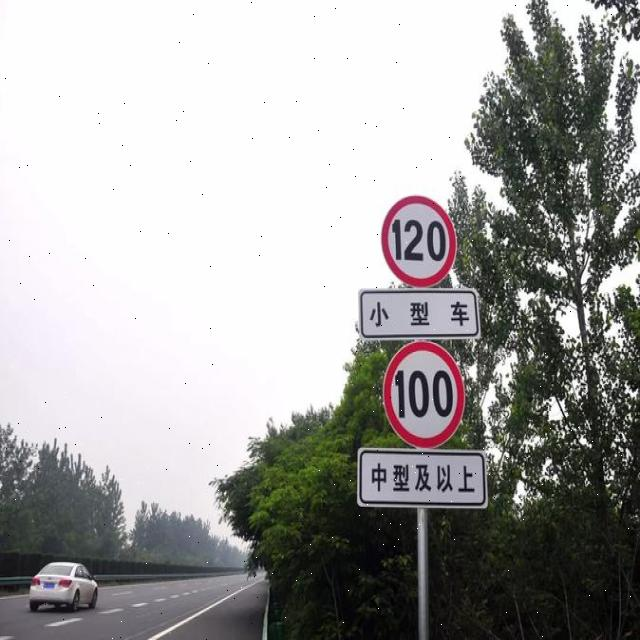speed limit 100: (383, 341, 466, 450)
speed limit 120: (380, 195, 458, 287)
